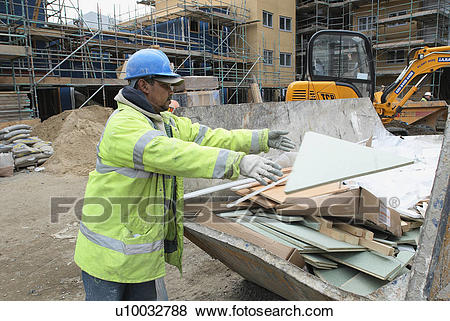Hard Hat: (119, 46, 184, 79)
High Viz: (80, 111, 182, 256)
